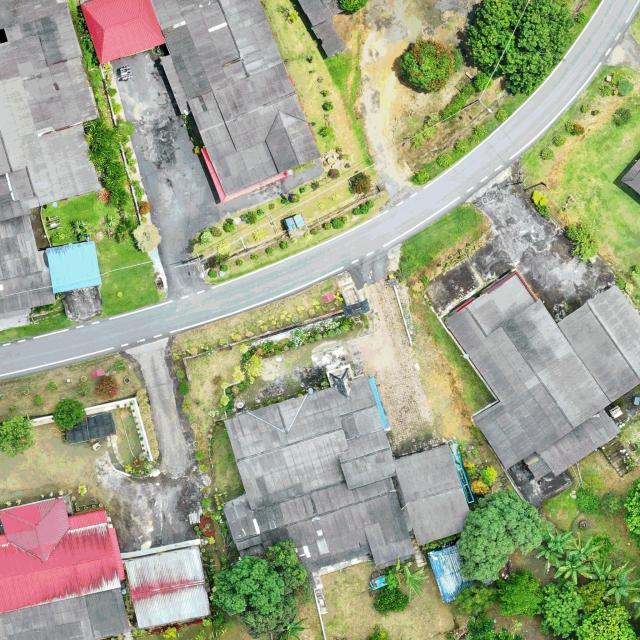Tree: (464, 0, 574, 94), (211, 539, 308, 639), (456, 487, 547, 585), (398, 38, 464, 92), (574, 600, 640, 640), (541, 581, 585, 637), (498, 566, 543, 620), (551, 550, 600, 586), (564, 222, 600, 264), (0, 414, 34, 458), (453, 582, 499, 614), (585, 560, 634, 586), (563, 532, 603, 562), (397, 566, 430, 602), (51, 398, 87, 430), (604, 574, 640, 604), (536, 540, 564, 576), (275, 614, 309, 640), (547, 530, 579, 554), (574, 487, 600, 515), (348, 170, 373, 197), (94, 375, 118, 400), (600, 492, 624, 516), (612, 106, 632, 128), (480, 465, 499, 486), (472, 72, 492, 91), (617, 79, 635, 97), (412, 168, 430, 186), (470, 478, 489, 495), (436, 152, 453, 169), (216, 240, 232, 256), (494, 107, 508, 123), (453, 140, 469, 154), (552, 134, 567, 148), (540, 147, 555, 161), (252, 228, 266, 242), (222, 220, 236, 234), (245, 210, 257, 225), (327, 168, 340, 180), (265, 246, 274, 255), (250, 252, 259, 261), (280, 241, 288, 250), (220, 264, 228, 273), (235, 260, 244, 267)
